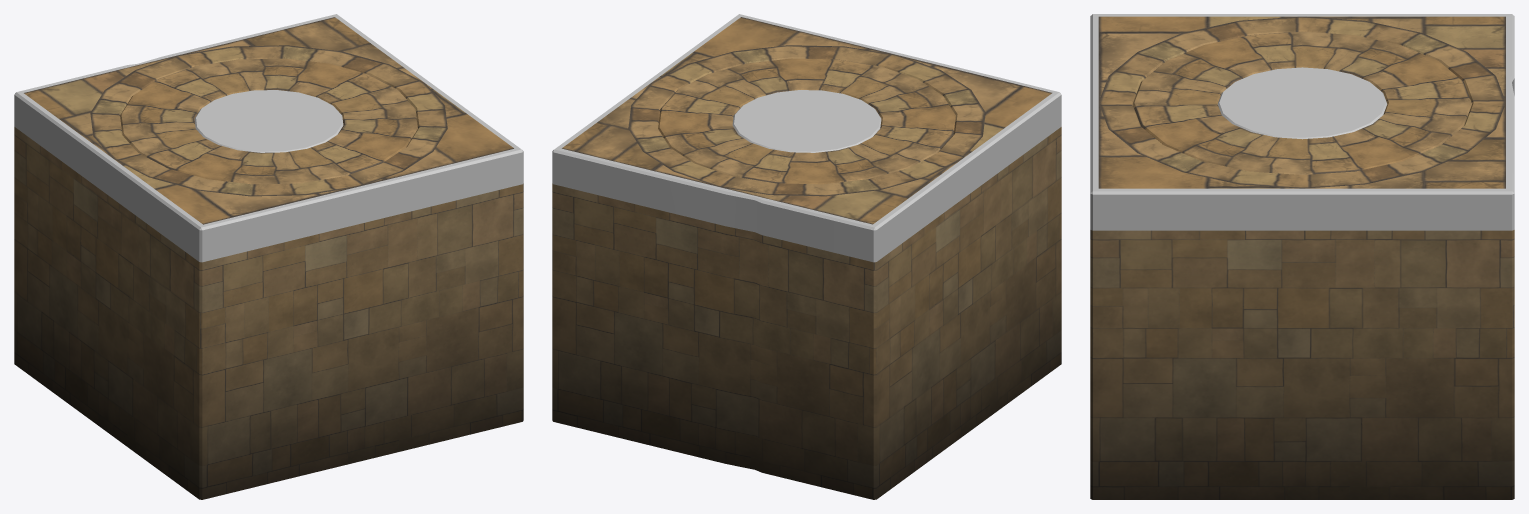
File: PlatformLargeColumn2OscY.fbx
3 views of the same model, side by side, from view 1: azimuth 30°, elevation 25°; view 2: azimuth 150°, elevation 25°; view 3: azimuth 270°, elevation 25° (orthographic). The views are drawn at different scales.
Visible parts, largest first — view 1: PlatformLargeColumn2OscY_Floor1, Column_Outer, Column_Inner; view 2: PlatformLargeColumn2OscY_Floor1, Column_Outer, Column_Inner; view 3: PlatformLargeColumn2OscY_Floor1, Column_Outer, Column_Inner.
Boxes of the visible parts, box(x1,y1,x2,y2) form: PlatformLargeColumn2OscY_Floor1: box(14, 14, 523, 499); Column_Outer: box(120, 58, 417, 184); Column_Inner: box(194, 90, 343, 152); PlatformLargeColumn2OscY_Floor1: box(552, 14, 1061, 499); Column_Outer: box(658, 58, 955, 184); Column_Inner: box(732, 90, 881, 152); PlatformLargeColumn2OscY_Floor1: box(1090, 14, 1514, 499); Column_Outer: box(1132, 31, 1471, 174); Column_Inner: box(1217, 67, 1387, 139).
Size of what is drawn, in the model's own units: 500 by 400 by 500.
